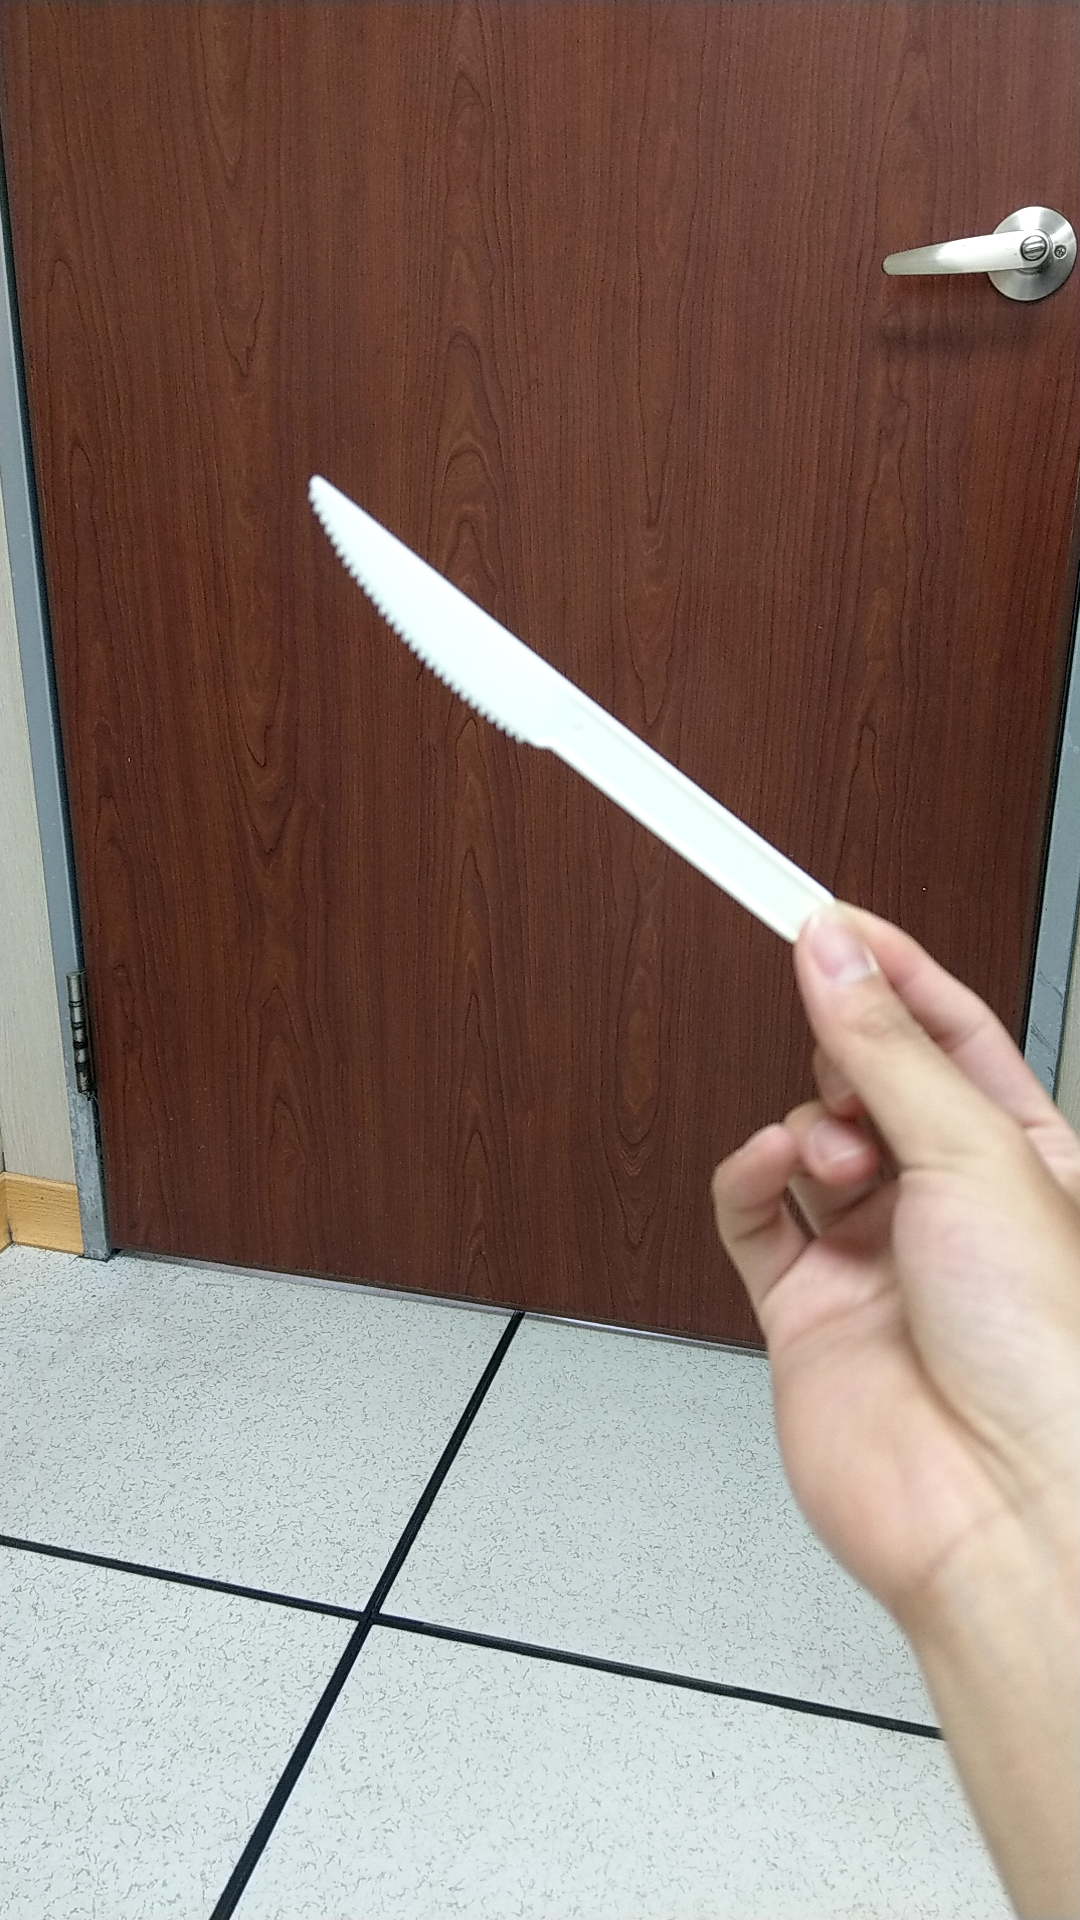knife: (290, 458, 851, 936)
